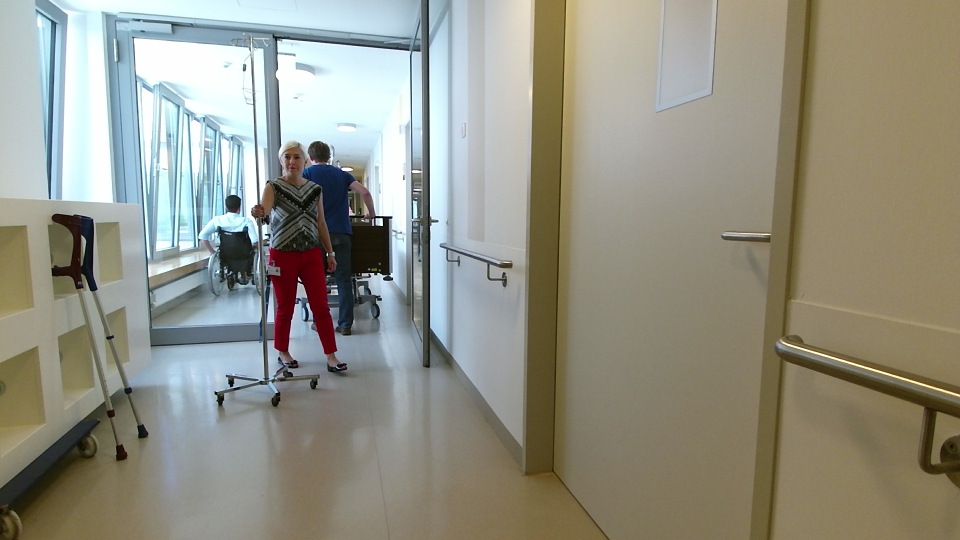wheelchair: (198, 195, 256, 284)
